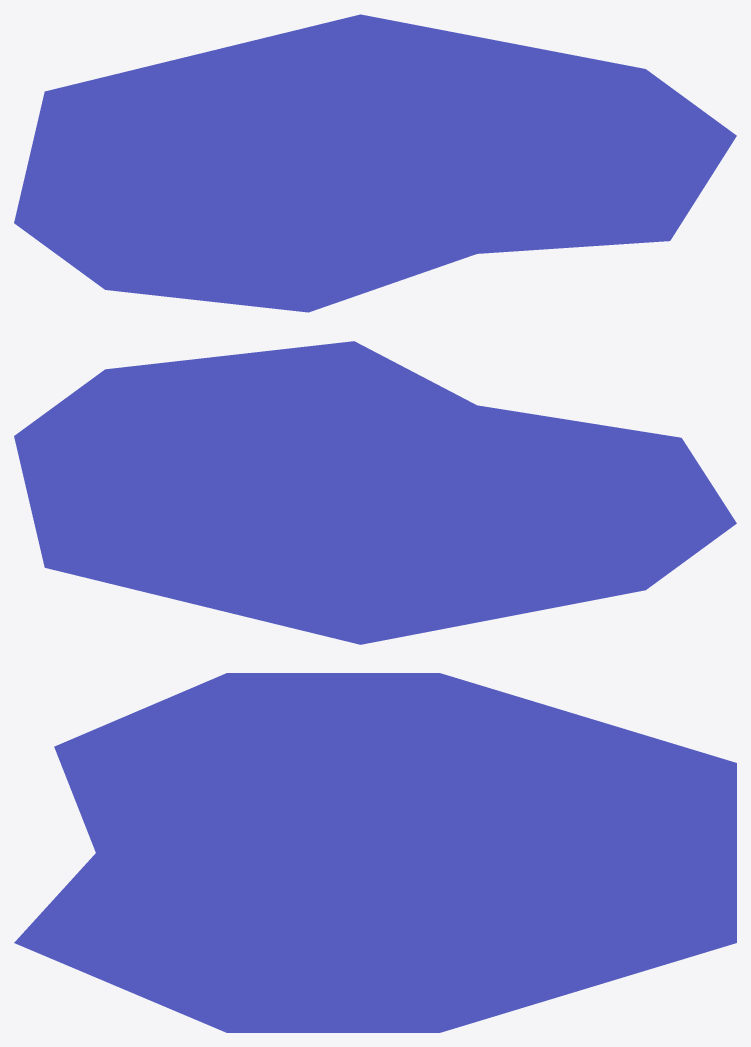
The model's file is longzu_longchao_water_01.FBX.
3 views of the same model, one above another, from view 1: azimuth 30°, elevation 25°; view 2: azimuth 150°, elevation 25°; view 3: azimuth 270°, elevation 25° (orthographic). The views are drawn at different scales.
Parts seen in each view (by area): view 1: longzu_longchao_water_01; view 2: longzu_longchao_water_01; view 3: longzu_longchao_water_01.
Part boxes in pixels (bbox=[...]): longzu_longchao_water_01: bbox=[14, 14, 736, 312]; longzu_longchao_water_01: bbox=[14, 341, 736, 644]; longzu_longchao_water_01: bbox=[14, 673, 736, 1032].
Bounding box in the file's own units: 10902 × 0.00575 × 9253.
